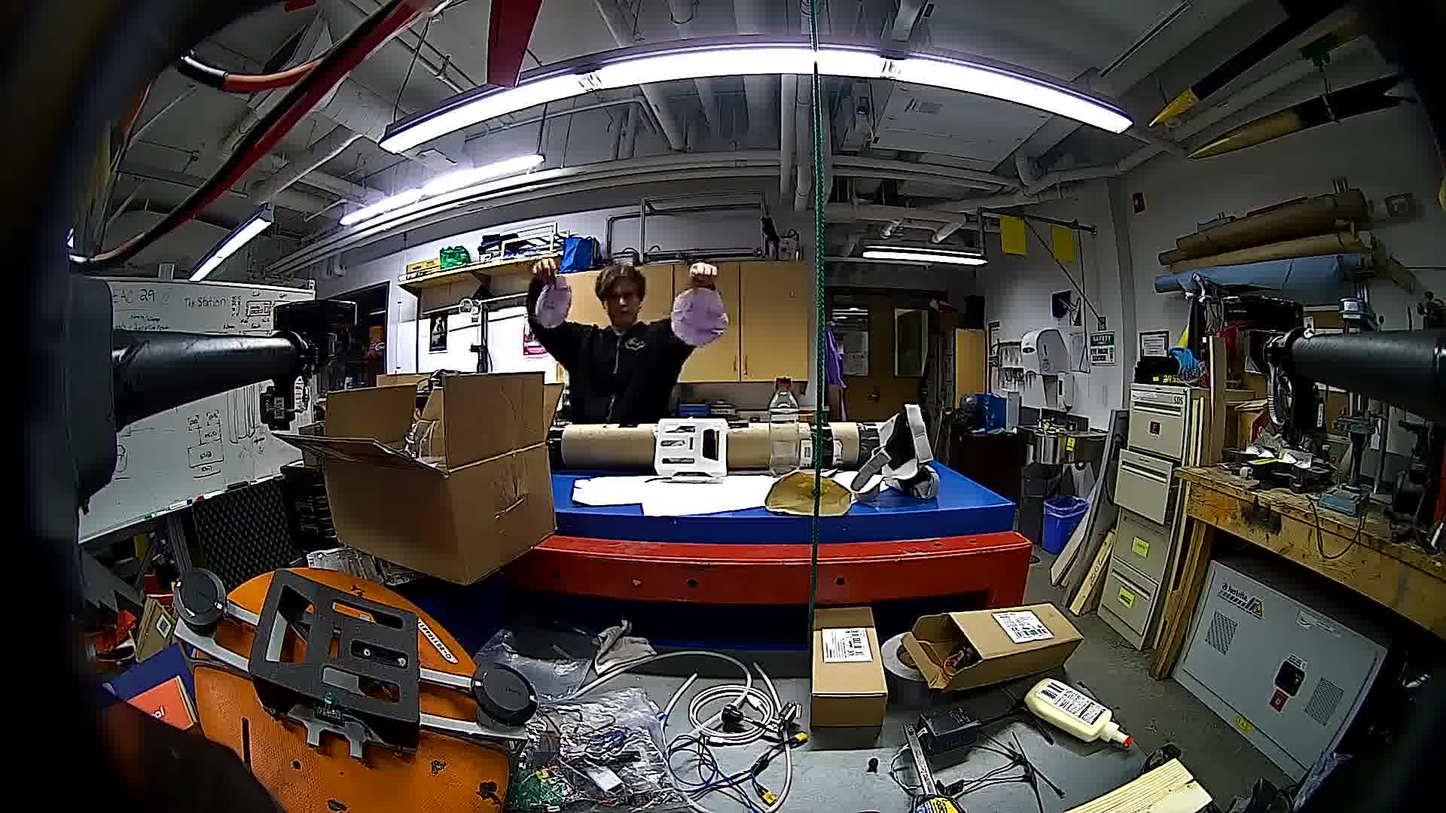Target: (671, 288, 725, 345), (540, 277, 568, 329)
